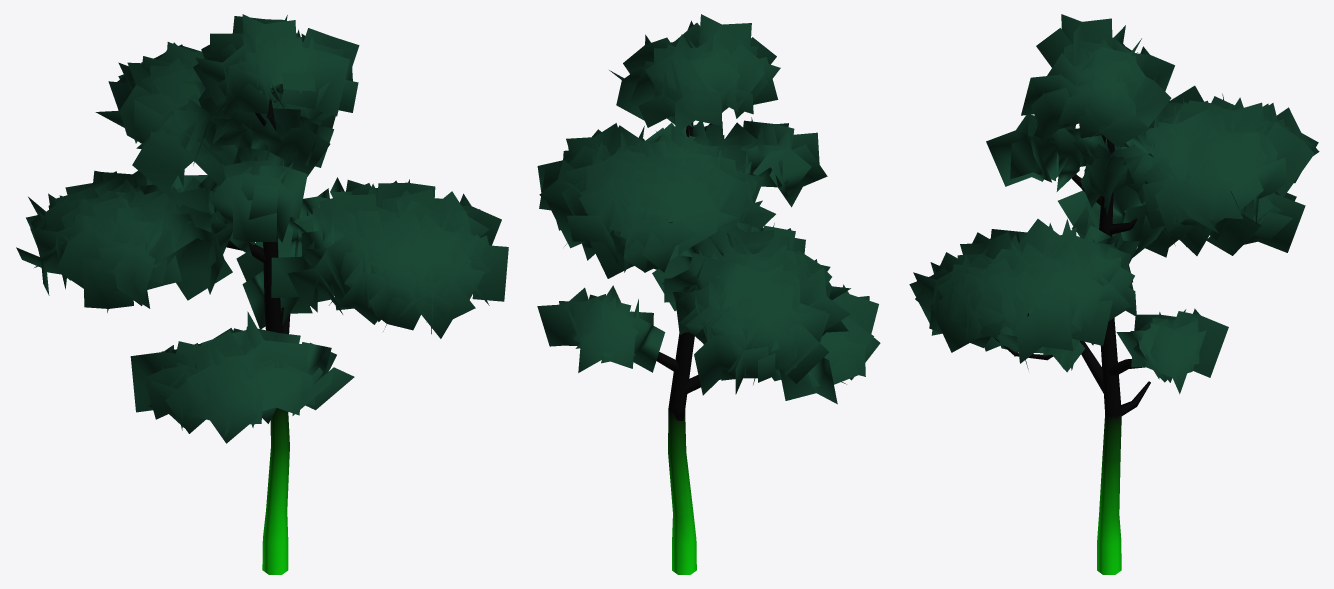
The model's file is SM_ChinaPine02.fbx.
3 views of the same model, side by side, from view 1: azimuth 30°, elevation 25°; view 2: azimuth 150°, elevation 25°; view 3: azimuth 270°, elevation 25° (orthographic). The views are drawn at different scales.
Visible parts, largest first — view 1: SM_ChinaPina02_LOD0; view 2: SM_ChinaPina02_LOD0; view 3: SM_ChinaPina02_LOD0.
Part boxes in pixels (x1=…): SM_ChinaPina02_LOD0: x1=16, y1=14, x2=508, y2=574; SM_ChinaPina02_LOD0: x1=537, y1=14, x2=880, y2=574; SM_ChinaPina02_LOD0: x1=909, y1=14, x2=1319, y2=574.
Size of what is drawn, in the model's own units: 1201 by 1713 by 1184.
